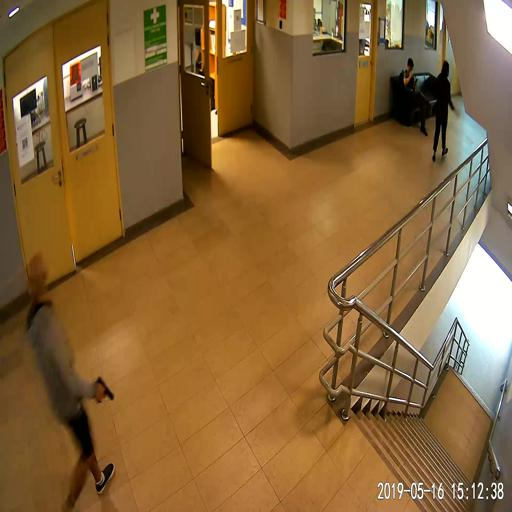pistol: (95, 376, 114, 402)
